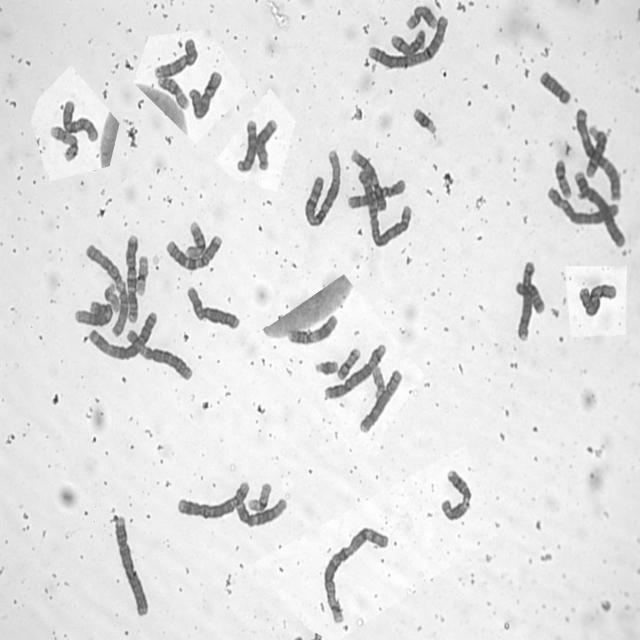A1: (322, 524, 390, 626), (302, 146, 342, 228)
A2: (365, 11, 449, 71), (356, 167, 414, 247)
A3: (571, 102, 622, 202), (87, 308, 158, 361)
B4: (572, 167, 628, 250), (111, 512, 151, 618)
B5: (323, 342, 388, 403), (176, 477, 251, 520)
C10: (344, 175, 408, 211), (60, 96, 100, 143)
C11: (438, 465, 474, 523), (287, 312, 339, 346)
C12: (234, 494, 287, 528), (72, 300, 114, 328)
C6: (123, 327, 195, 382), (543, 182, 621, 227)
C7: (163, 232, 224, 272), (124, 230, 140, 324)
C8: (358, 368, 404, 436), (514, 255, 536, 344)
C9: (348, 146, 389, 214), (153, 38, 200, 79)
D13: (84, 242, 122, 284), (234, 118, 257, 171)
D14: (583, 126, 610, 180), (390, 27, 426, 57)
D15: (254, 116, 278, 172), (110, 280, 130, 338)
E16: (154, 72, 190, 111), (182, 217, 208, 259)
E17: (48, 122, 80, 162), (404, 2, 439, 30)
E18: (537, 66, 573, 106), (513, 278, 546, 316)
F19: (245, 479, 273, 513), (134, 252, 150, 297)
F20: (335, 345, 362, 381), (552, 156, 572, 198)
G21: (410, 104, 438, 136), (312, 356, 340, 377)
G22: (370, 362, 387, 399), (103, 282, 121, 313)
X: (184, 283, 242, 332), (187, 68, 225, 120), (577, 282, 617, 317)
